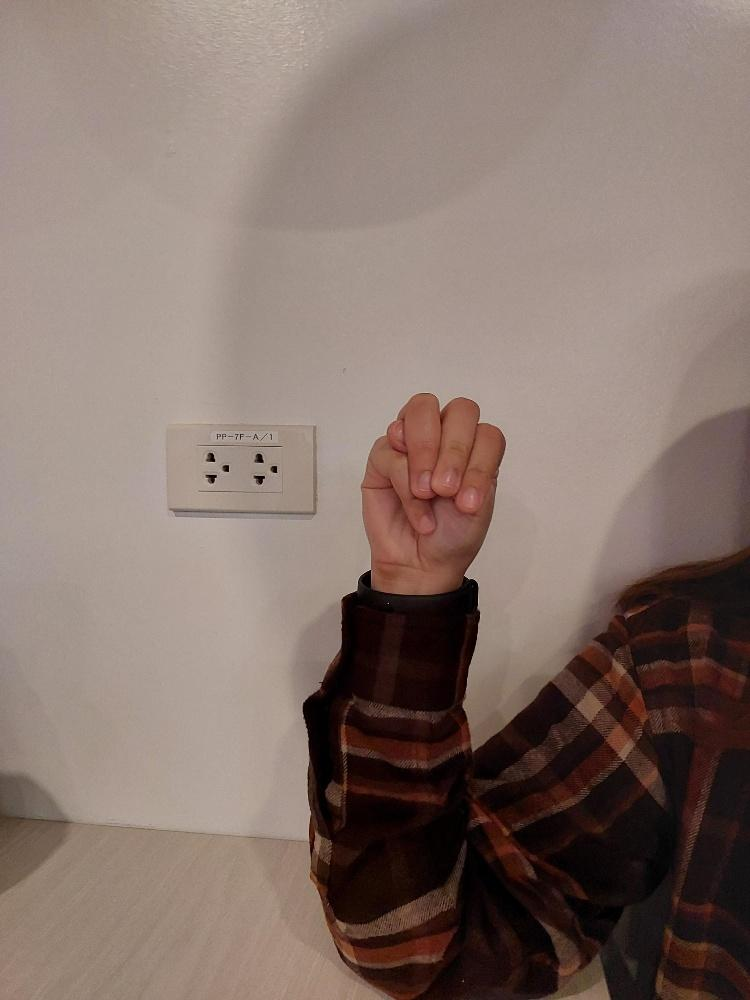m: (358, 388, 508, 588)
